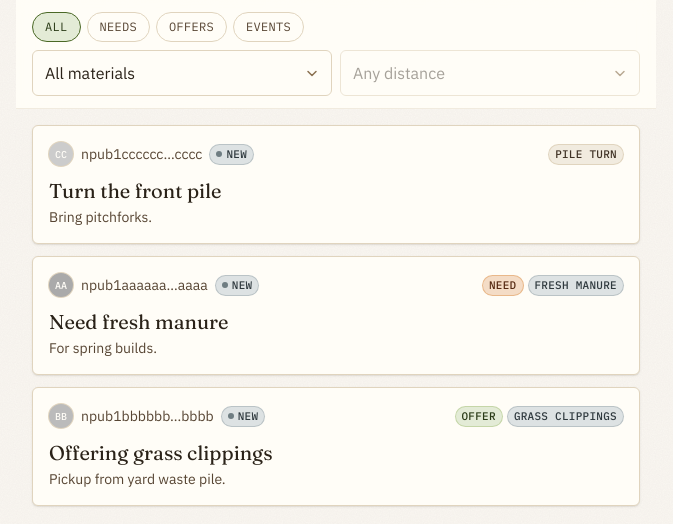
SPEC-018 Feed › material filter = manure-fresh keeps only the manure listing (and hides labor events)
Expected: the heading "Need fresh manure" is shown, [49,309,228,334]
Expected: the heading "Offering grass clippings" is shown, [49,440,273,465]
Select "Fresh manure" in the dropdown named "Material" at (182, 73), box [33,51,331,95]
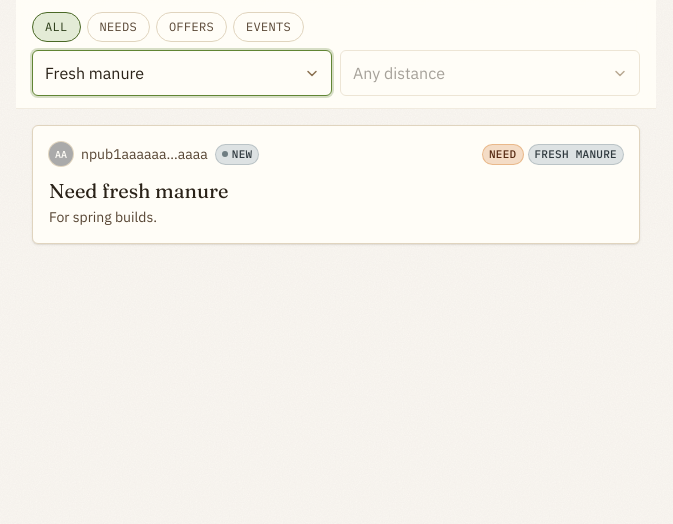
Expected: the heading "Need fresh manure" is shown, [49,178,228,203]
Now the heading "Offering grass clippings" is gone
Now the heading "Turn the front pile" is gone
